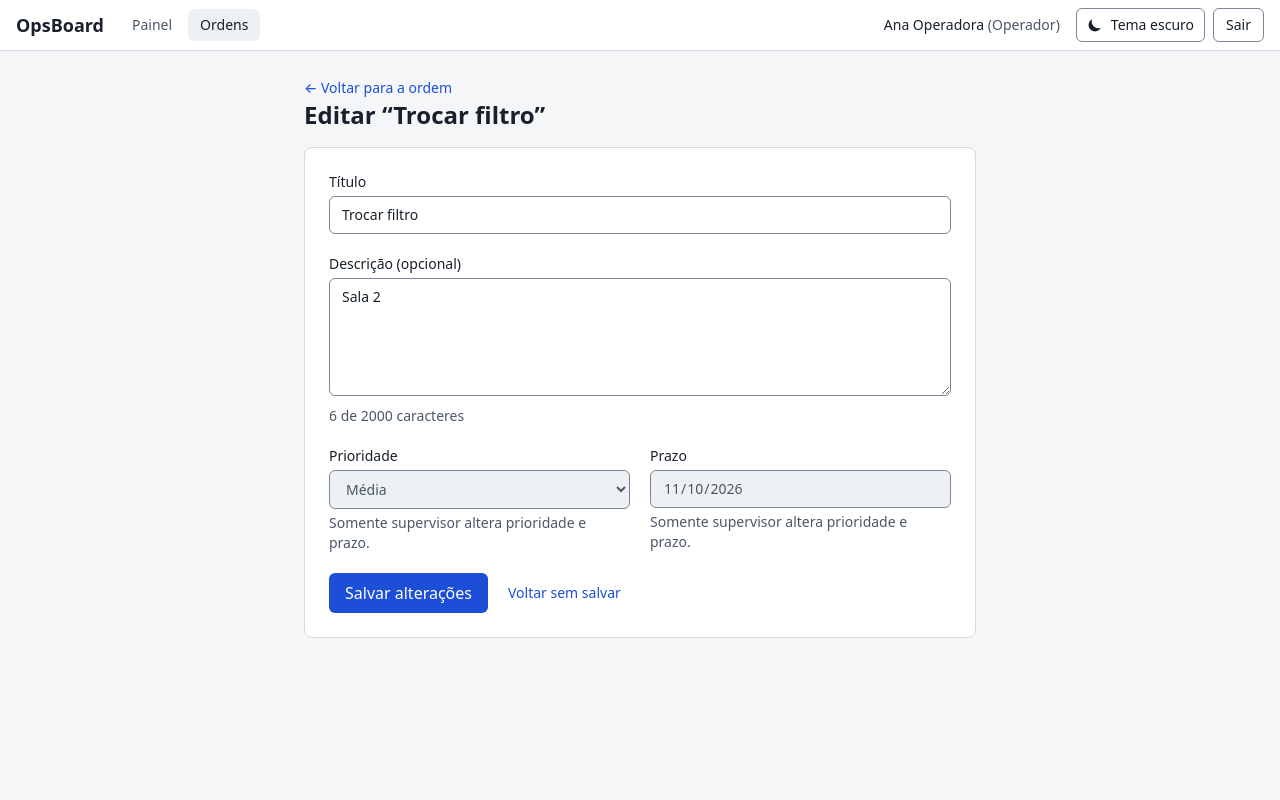
Test: Editar ordem (/orders/:id/edit) › 403 ao salvar mostra a mensagem de permissão sem perder o texto
This screenshot has width=1280, height=800.
Expected: the button "Salvar alterações" is shown, [329,573,488,613]
Type " 2" into the field labelled "Título". click: [640, 215]
box: [329,196,951,234]
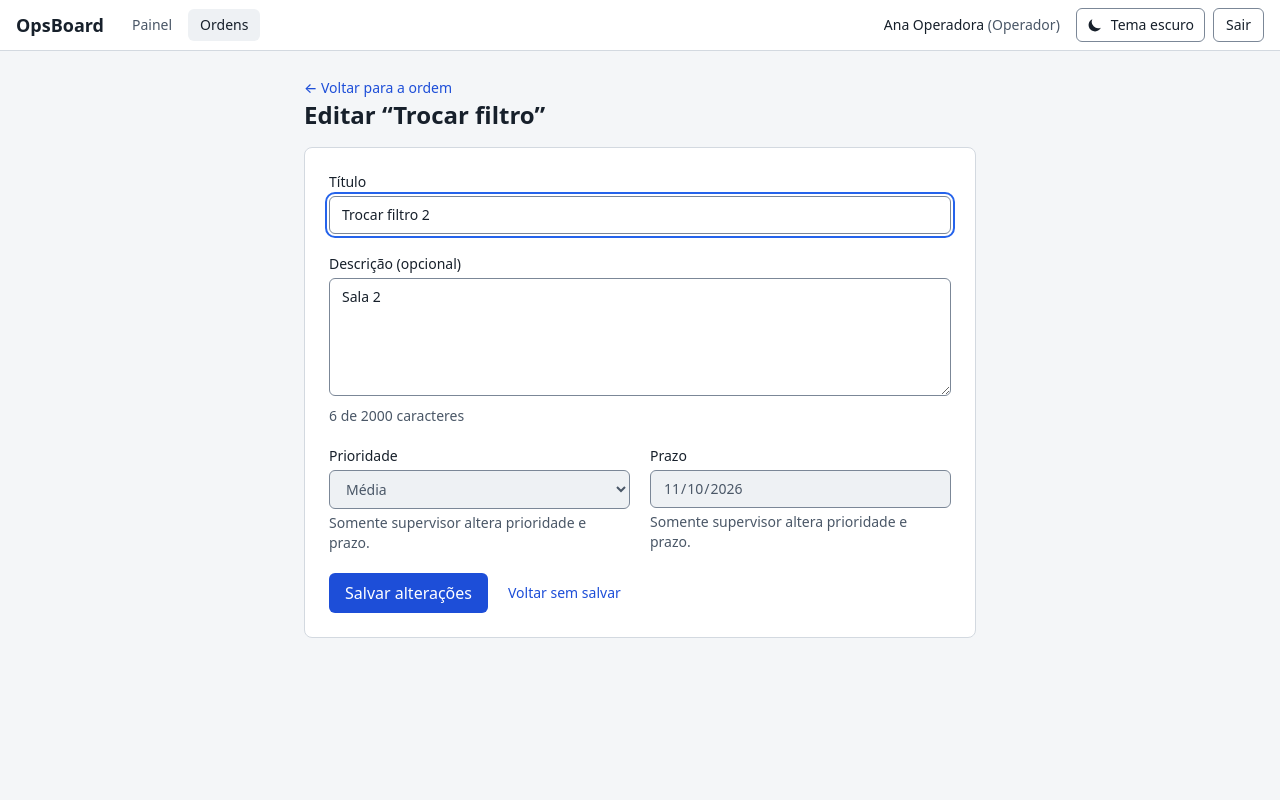
Click the button "Salvar alterações". click: [408, 593]
box: [329,573,488,613]
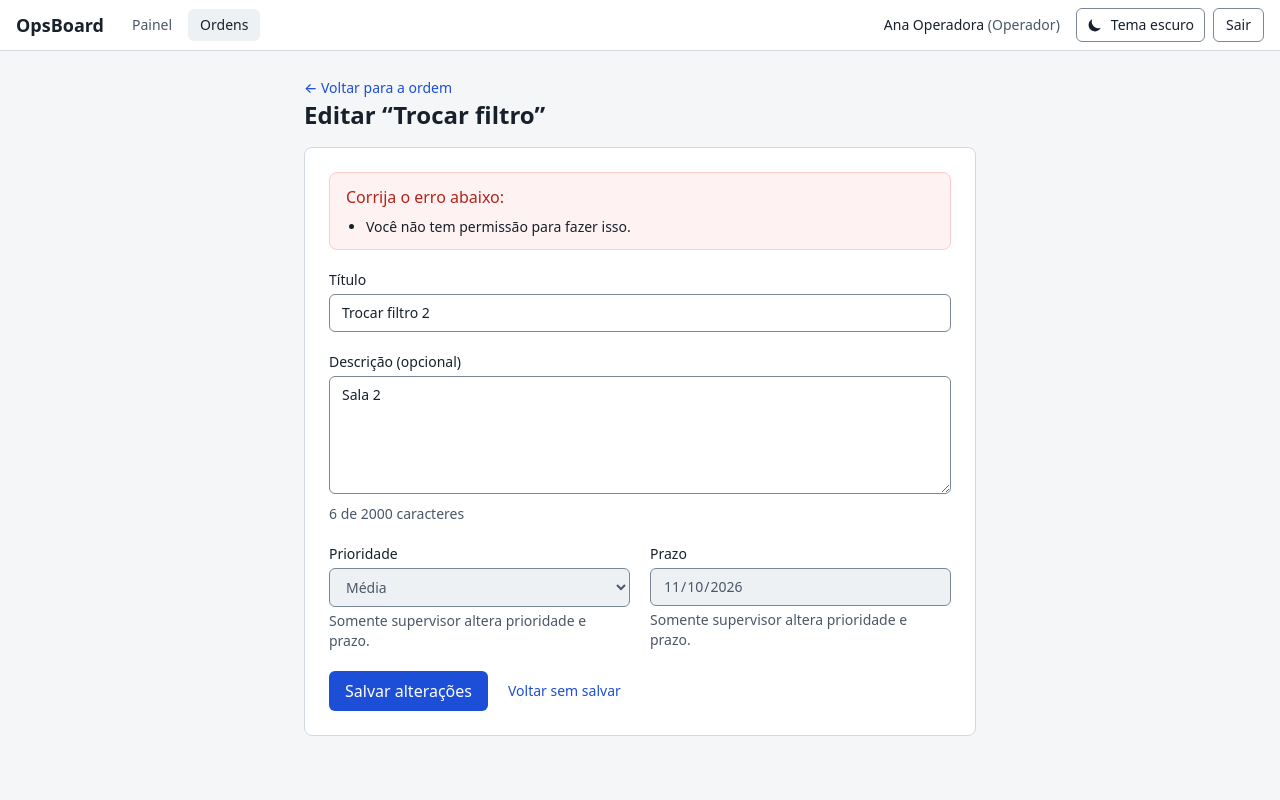
Now the field labelled "Título" holds "Trocar filtro 2", box [329,294,951,332]
Now the list item "Você não tem permissão para fazer isso." is shown, box [366,217,631,236]
